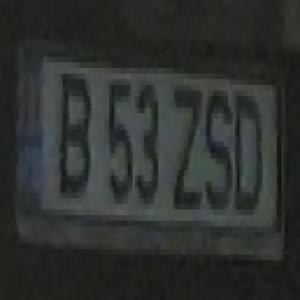Plate: (14, 33, 292, 273)
